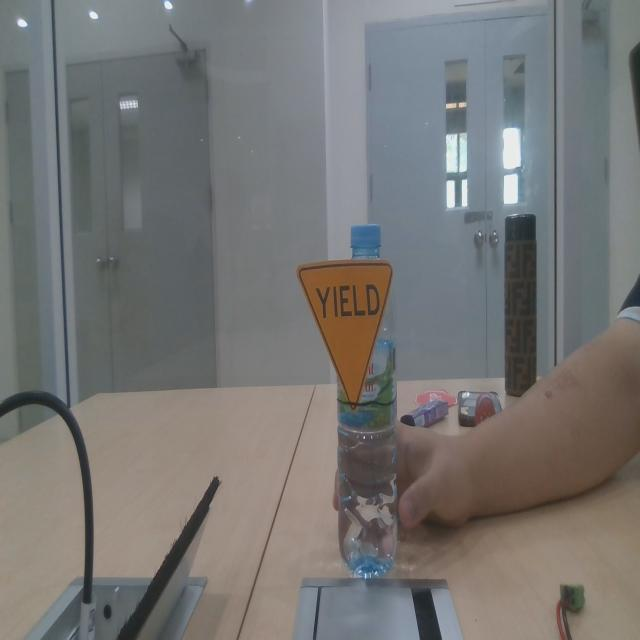Yield: (288, 243, 398, 424)
